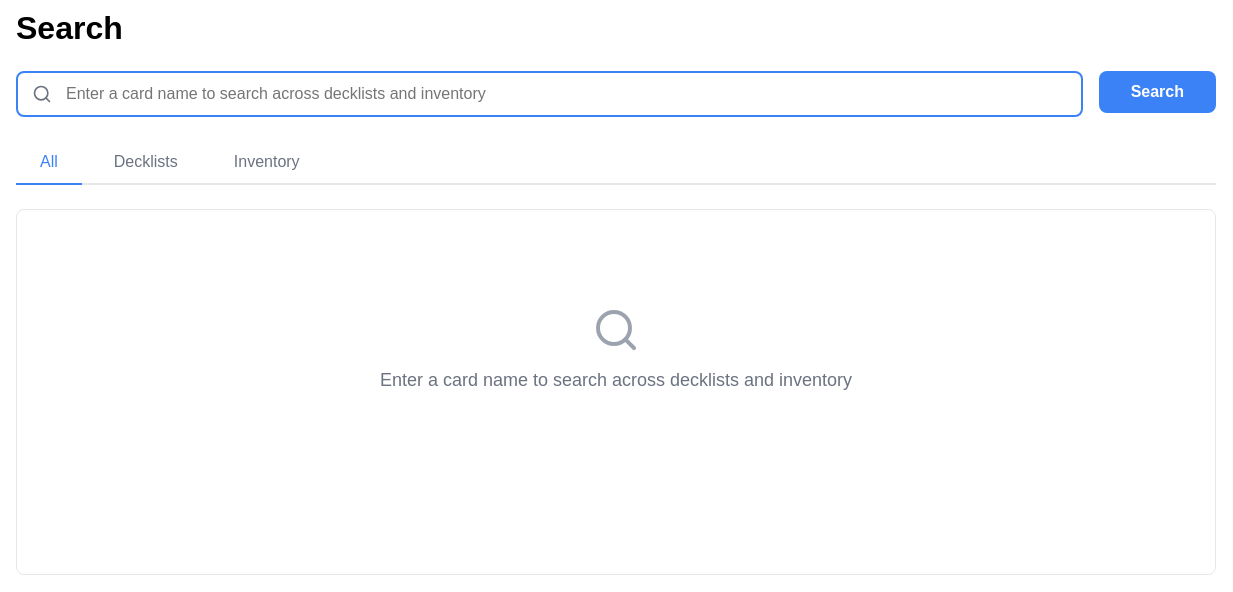
Test: Search Page - Decklist Empty States › should show empty state in Decklists tab when no decklists found
Type "Rare Card" into the field with placeholder "Enter a card name to search across decklists and inventory". click: (549, 94)
box: x1=16 y1=71 x2=1083 y2=117
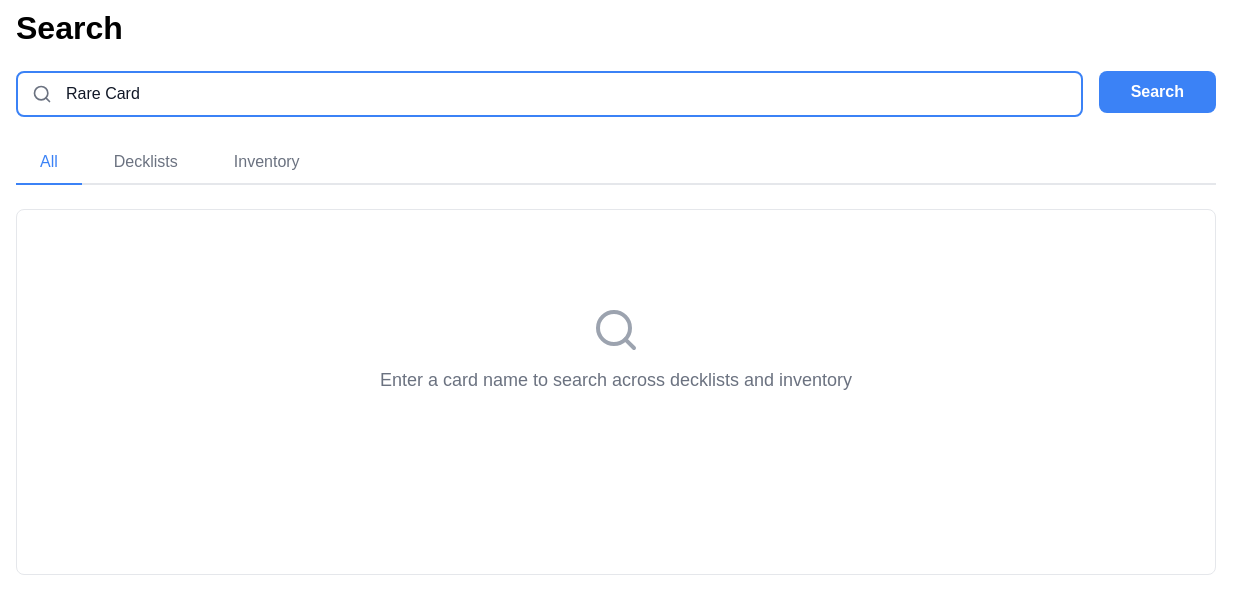
Click the button "Search". click: click(1157, 92)
box: x1=1099 y1=71 x2=1216 y2=113
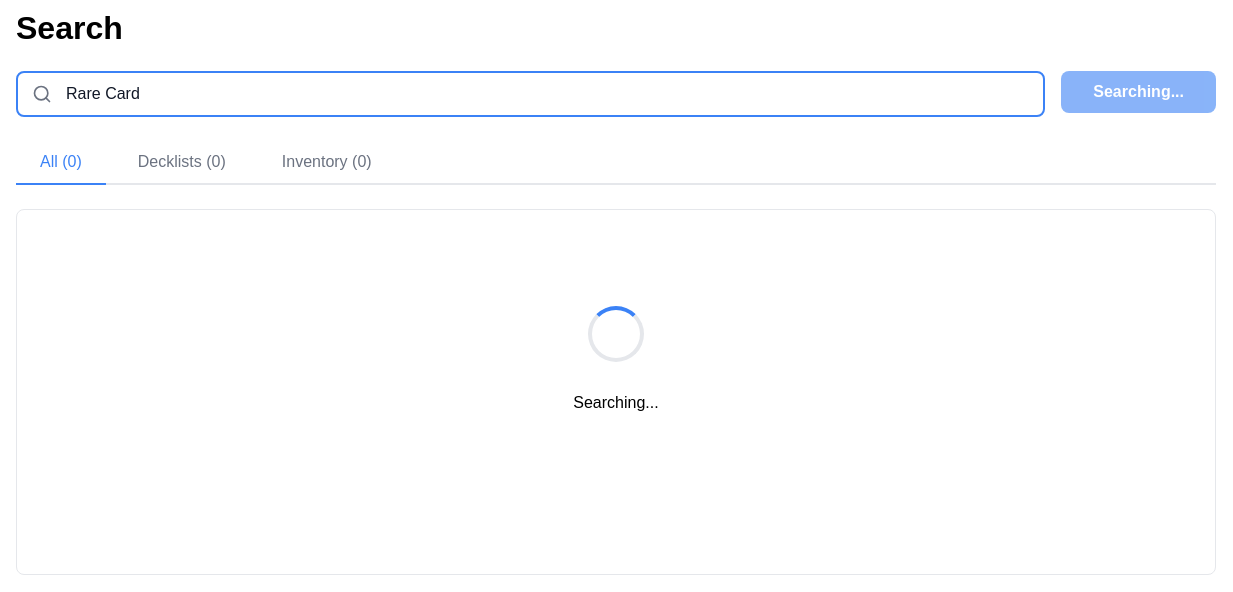
Click the tab "Decklists (0)". click: click(182, 163)
box: x1=114 y1=141 x2=250 y2=185
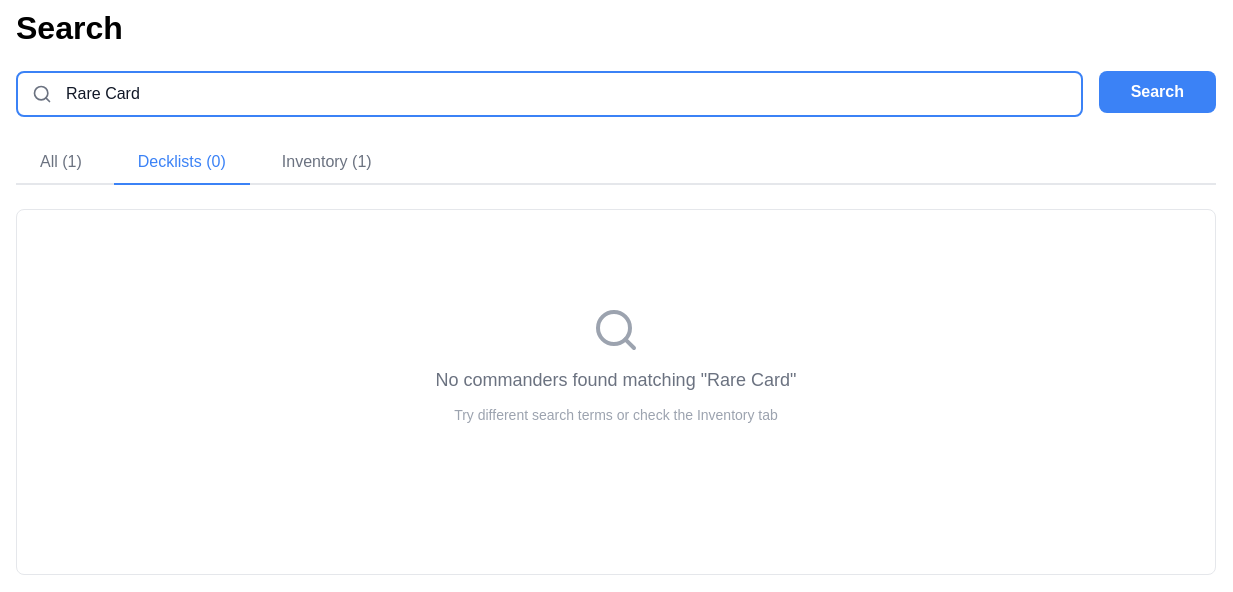
Expected: the text "No commanders found matching \"Rare Card\"" is shown, x1=436 y1=370 x2=796 y2=391
